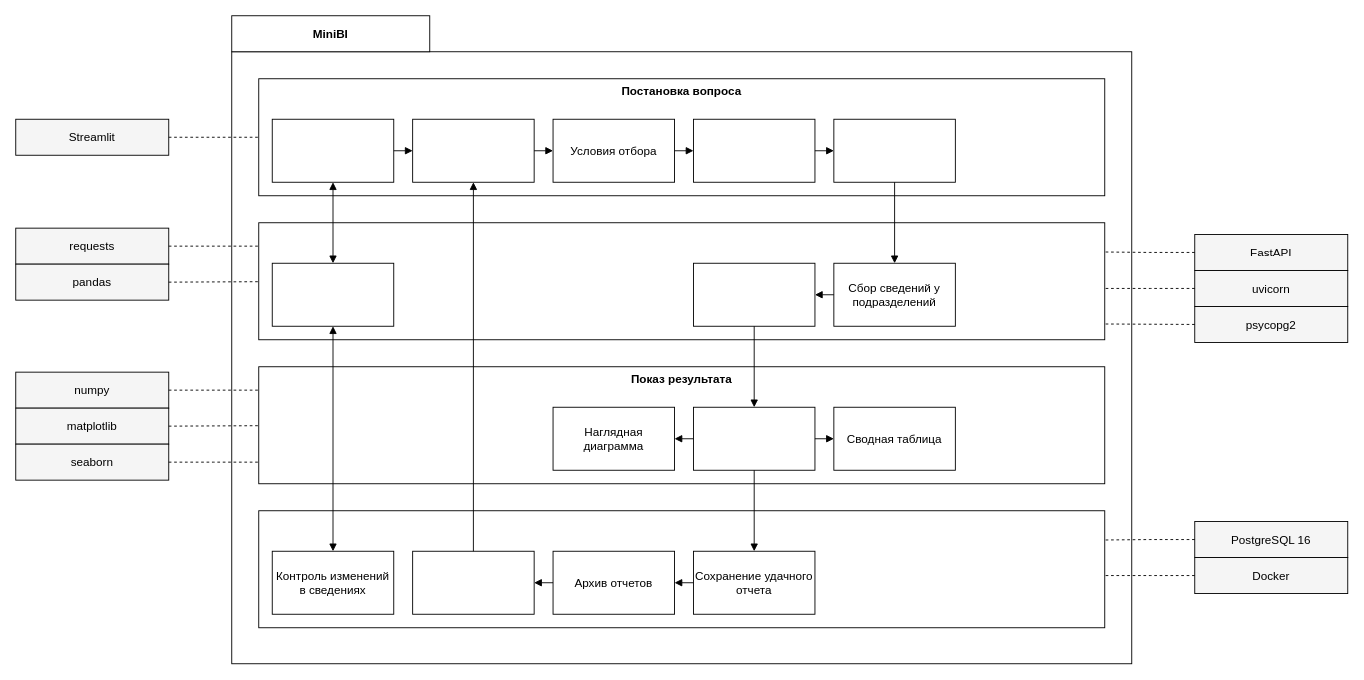
Image size: 1364x680. Some labels were removed from this diagram. Each missing label, with the box of its shape:
Вид представления: (833, 118, 955, 182)
Выбор показателей: (412, 118, 534, 182)
Выбор темы отчета: (271, 118, 394, 182)
Готовый отчет: (693, 406, 815, 470)
Объем отчета: (693, 118, 815, 182)
Повторное использование и актуальность: (258, 510, 1105, 628)
Повторный запуск и сравнение отчетов: (412, 550, 534, 614)
Подготовка отчета: (258, 222, 1105, 340)
Подсчет итогов: (693, 262, 815, 326)
Справочник доступных сведений: (271, 262, 394, 326)
